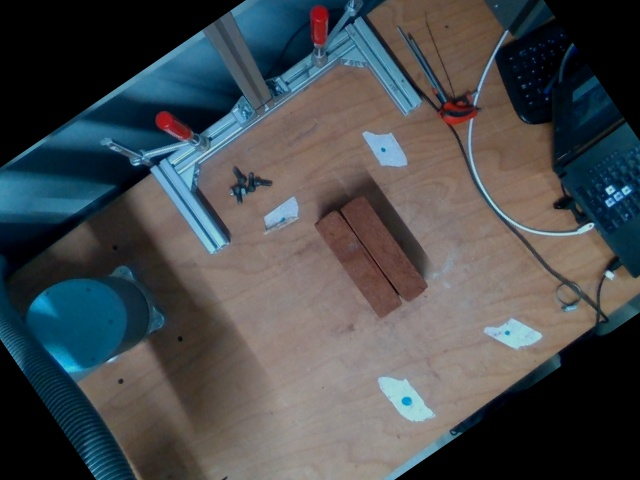brick-side: (315, 209, 400, 317), (342, 195, 427, 303)
